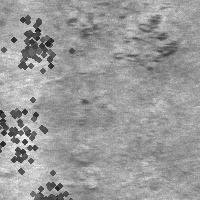rolled-in_scale: (69, 5, 177, 69), (0, 82, 61, 180), (0, 6, 71, 84), (20, 167, 78, 200)
